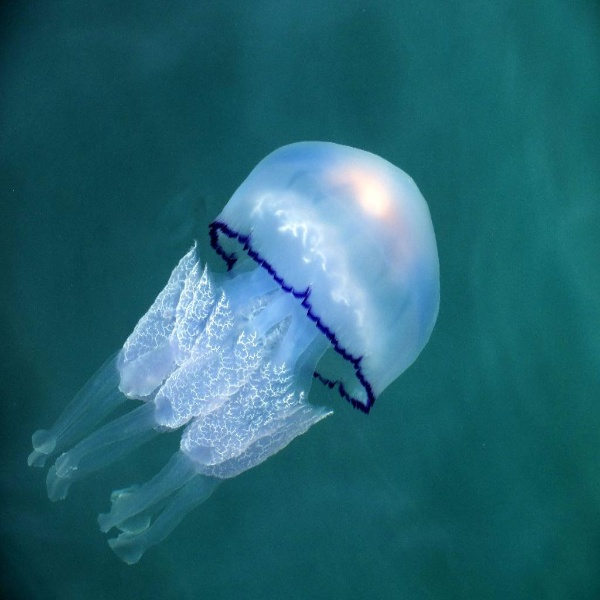Jellyfish: (27, 141, 440, 564)
